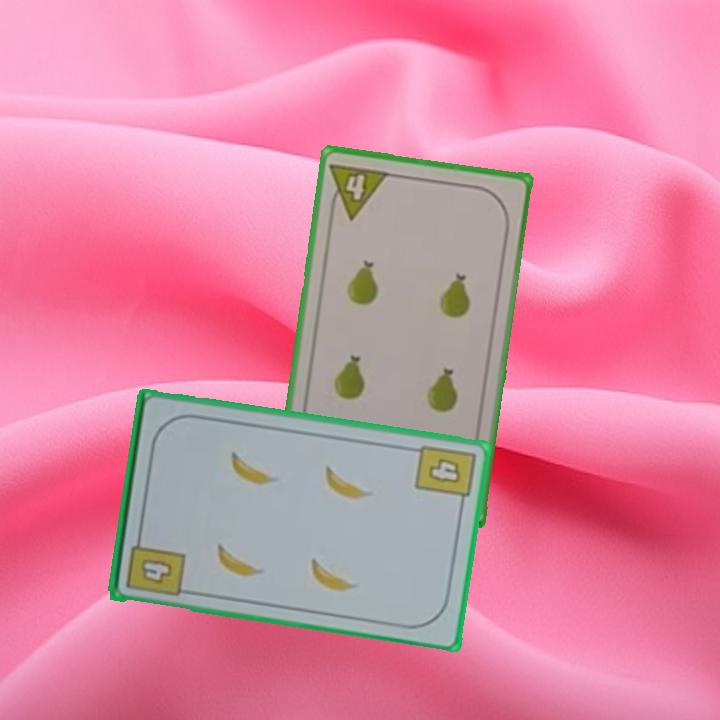4b: (411, 441, 478, 511), (122, 529, 188, 599)
4p: (325, 159, 392, 222)
